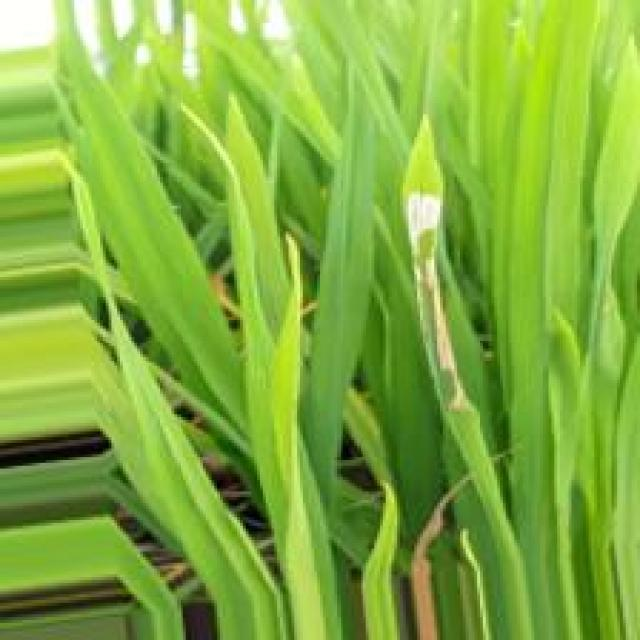Rice_Hispa: (409, 192, 444, 275)
